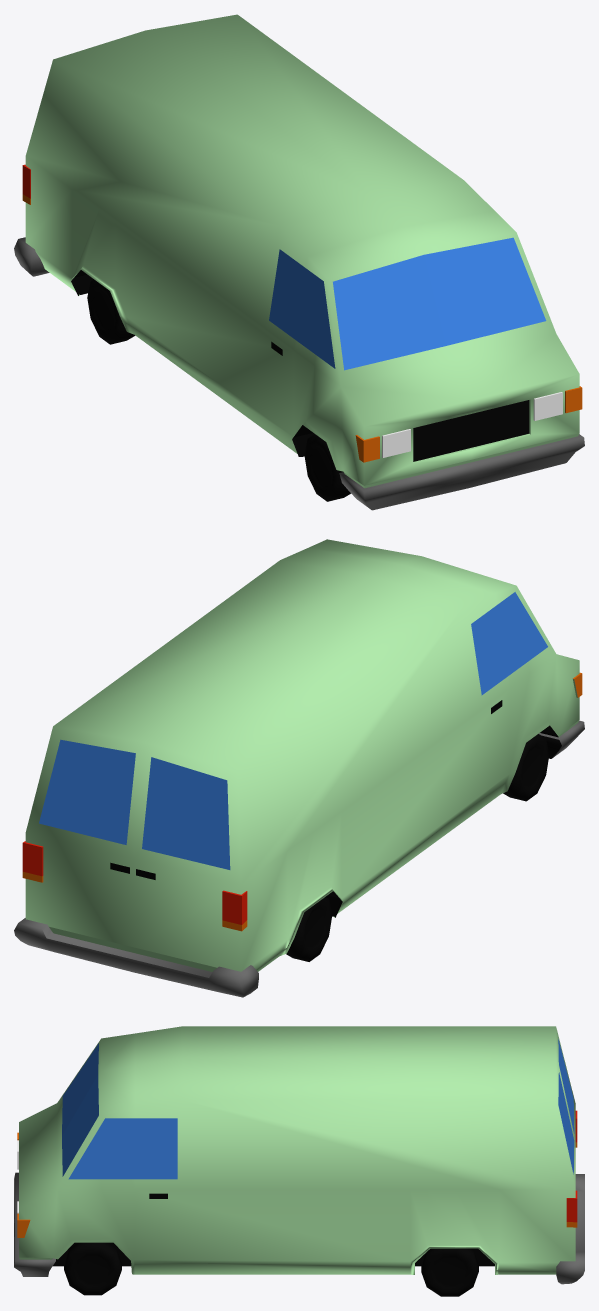
Rendered from bus.fbx.
3 views of the same model, one above another, from view 1: azimuth 30°, elevation 25°; view 2: azimuth 150°, elevation 25°; view 3: azimuth 270°, elevation 25° (orthographic). The views are drawn at different scales.
Visible parts, largest first — view 1: Van, Wheel1fl, Wheel1rl; view 2: Van, Wheel1rl, Wheel1fl, Break; view 3: Van, Wheel1fr, Wheel1rr.
Boxes of the visible parts, <box> form: Van: <box>14,14,584,510</box>; Wheel1fl: <box>304,434,350,501</box>; Wheel1rl: <box>87,279,135,344</box>; Van: <box>14,539,584,997</box>; Wheel1rl: <box>286,897,332,961</box>; Wheel1fl: <box>503,734,549,801</box>; Break: <box>22,843,241,924</box>; Van: <box>14,1026,584,1284</box>; Wheel1fr: <box>64,1242,121,1295</box>; Wheel1rr: <box>421,1248,478,1296</box>.
Bounding box in the file's own units: 163 × 162 × 431.
